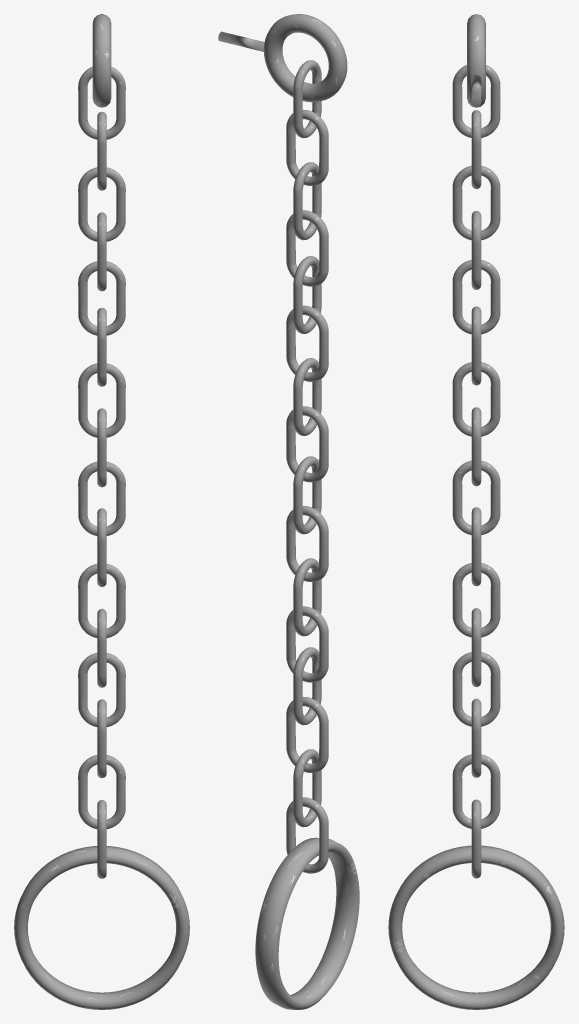
File: Chaine(1).fbx
3 renders of one model, left to right at view 1: azimuth 90°, elevation 25°; view 2: azimuth 150°, elevation 25°; view 3: azimuth 270°, elevation 25°, orthographic.
Visible parts, largest first — view 1: Cylinder.001; view 2: Cylinder.001; view 3: Cylinder.001.
Part boxes in pixels (bbox=[...]): Cylinder.001: bbox=[14, 14, 189, 1009]; Cylinder.001: bbox=[218, 14, 359, 1009]; Cylinder.001: bbox=[388, 14, 564, 1009].
Size of the model in its own units: 760 by 5714 by 922.
1 material, 1 textured.
